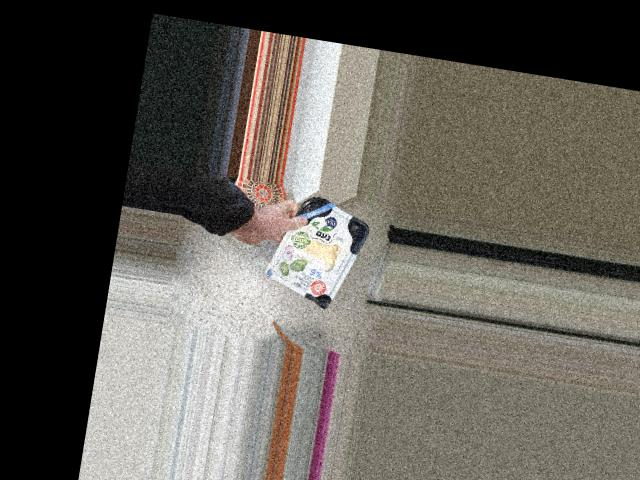cheese: (273, 203, 359, 301)
